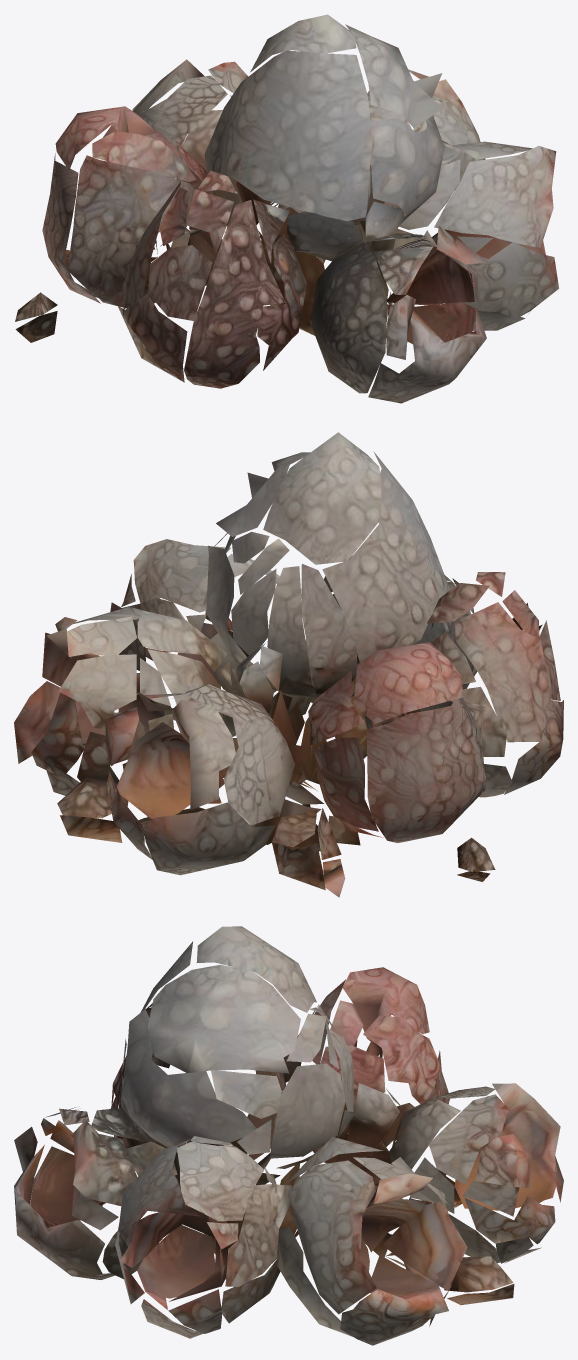
Rendered from barnacle_giant.glb.
3 renders of one model, top to bottom at view 1: azimuth 30°, elevation 25°; view 2: azimuth 150°, elevation 25°; view 3: azimuth 270°, elevation 25°, orthographic. The views are drawn at different scales.
Visible parts, largest first — view 1: tripo_node_fce086a7-5dcf-4f27-b792-1767b5ebf1e0; view 2: tripo_node_fce086a7-5dcf-4f27-b792-1767b5ebf1e0; view 3: tripo_node_fce086a7-5dcf-4f27-b792-1767b5ebf1e0.
Part boxes in pixels (x1,y1,x2,y2): tripo_node_fce086a7-5dcf-4f27-b792-1767b5ebf1e0: (15, 14, 558, 403); tripo_node_fce086a7-5dcf-4f27-b792-1767b5ebf1e0: (14, 432, 563, 897); tripo_node_fce086a7-5dcf-4f27-b792-1767b5ebf1e0: (14, 926, 563, 1345).
Bounding box in the file's own units: 0.9527 × 0.6676 × 0.982.
1 material, 1 textured.
